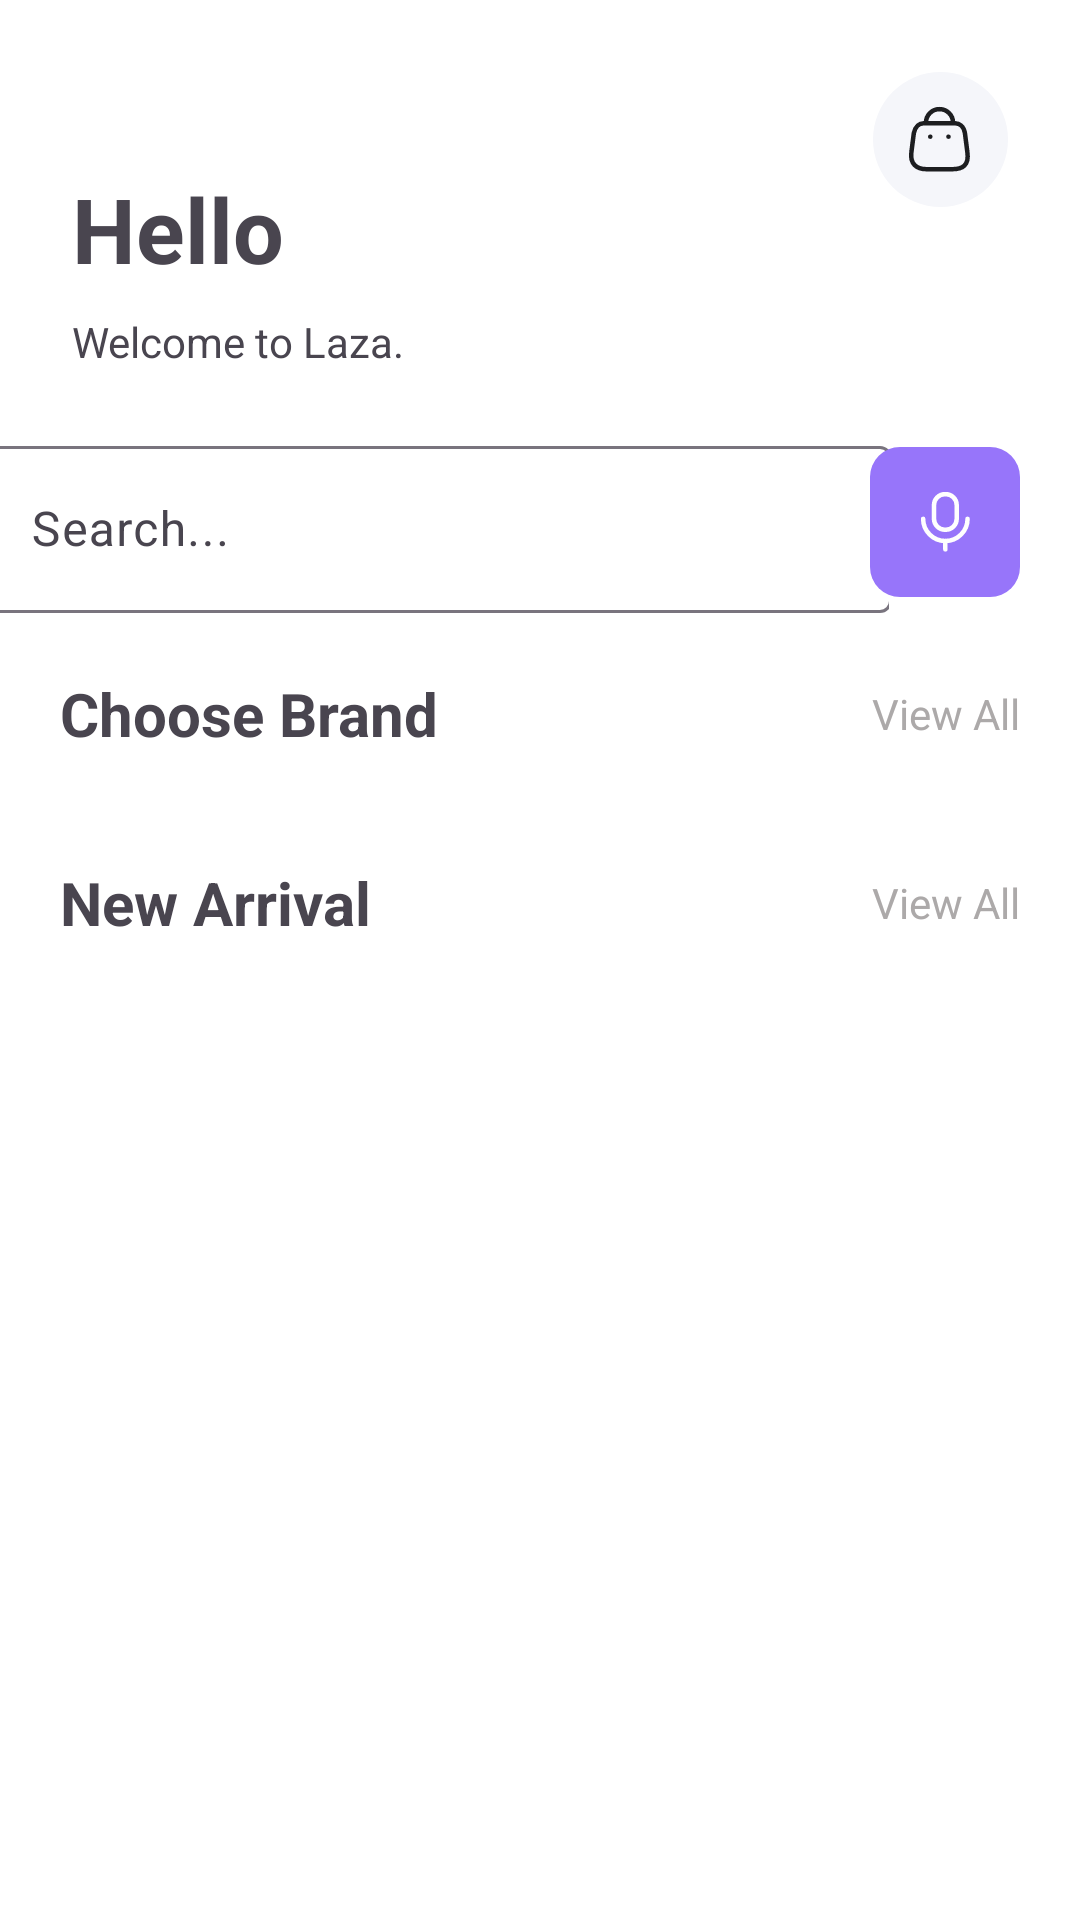

Where icons sit on this 1080px×1920px app screen, as (x1, y1, x2, y2):
sebet: (873, 72, 1008, 207)
voice: (870, 446, 1020, 613)
